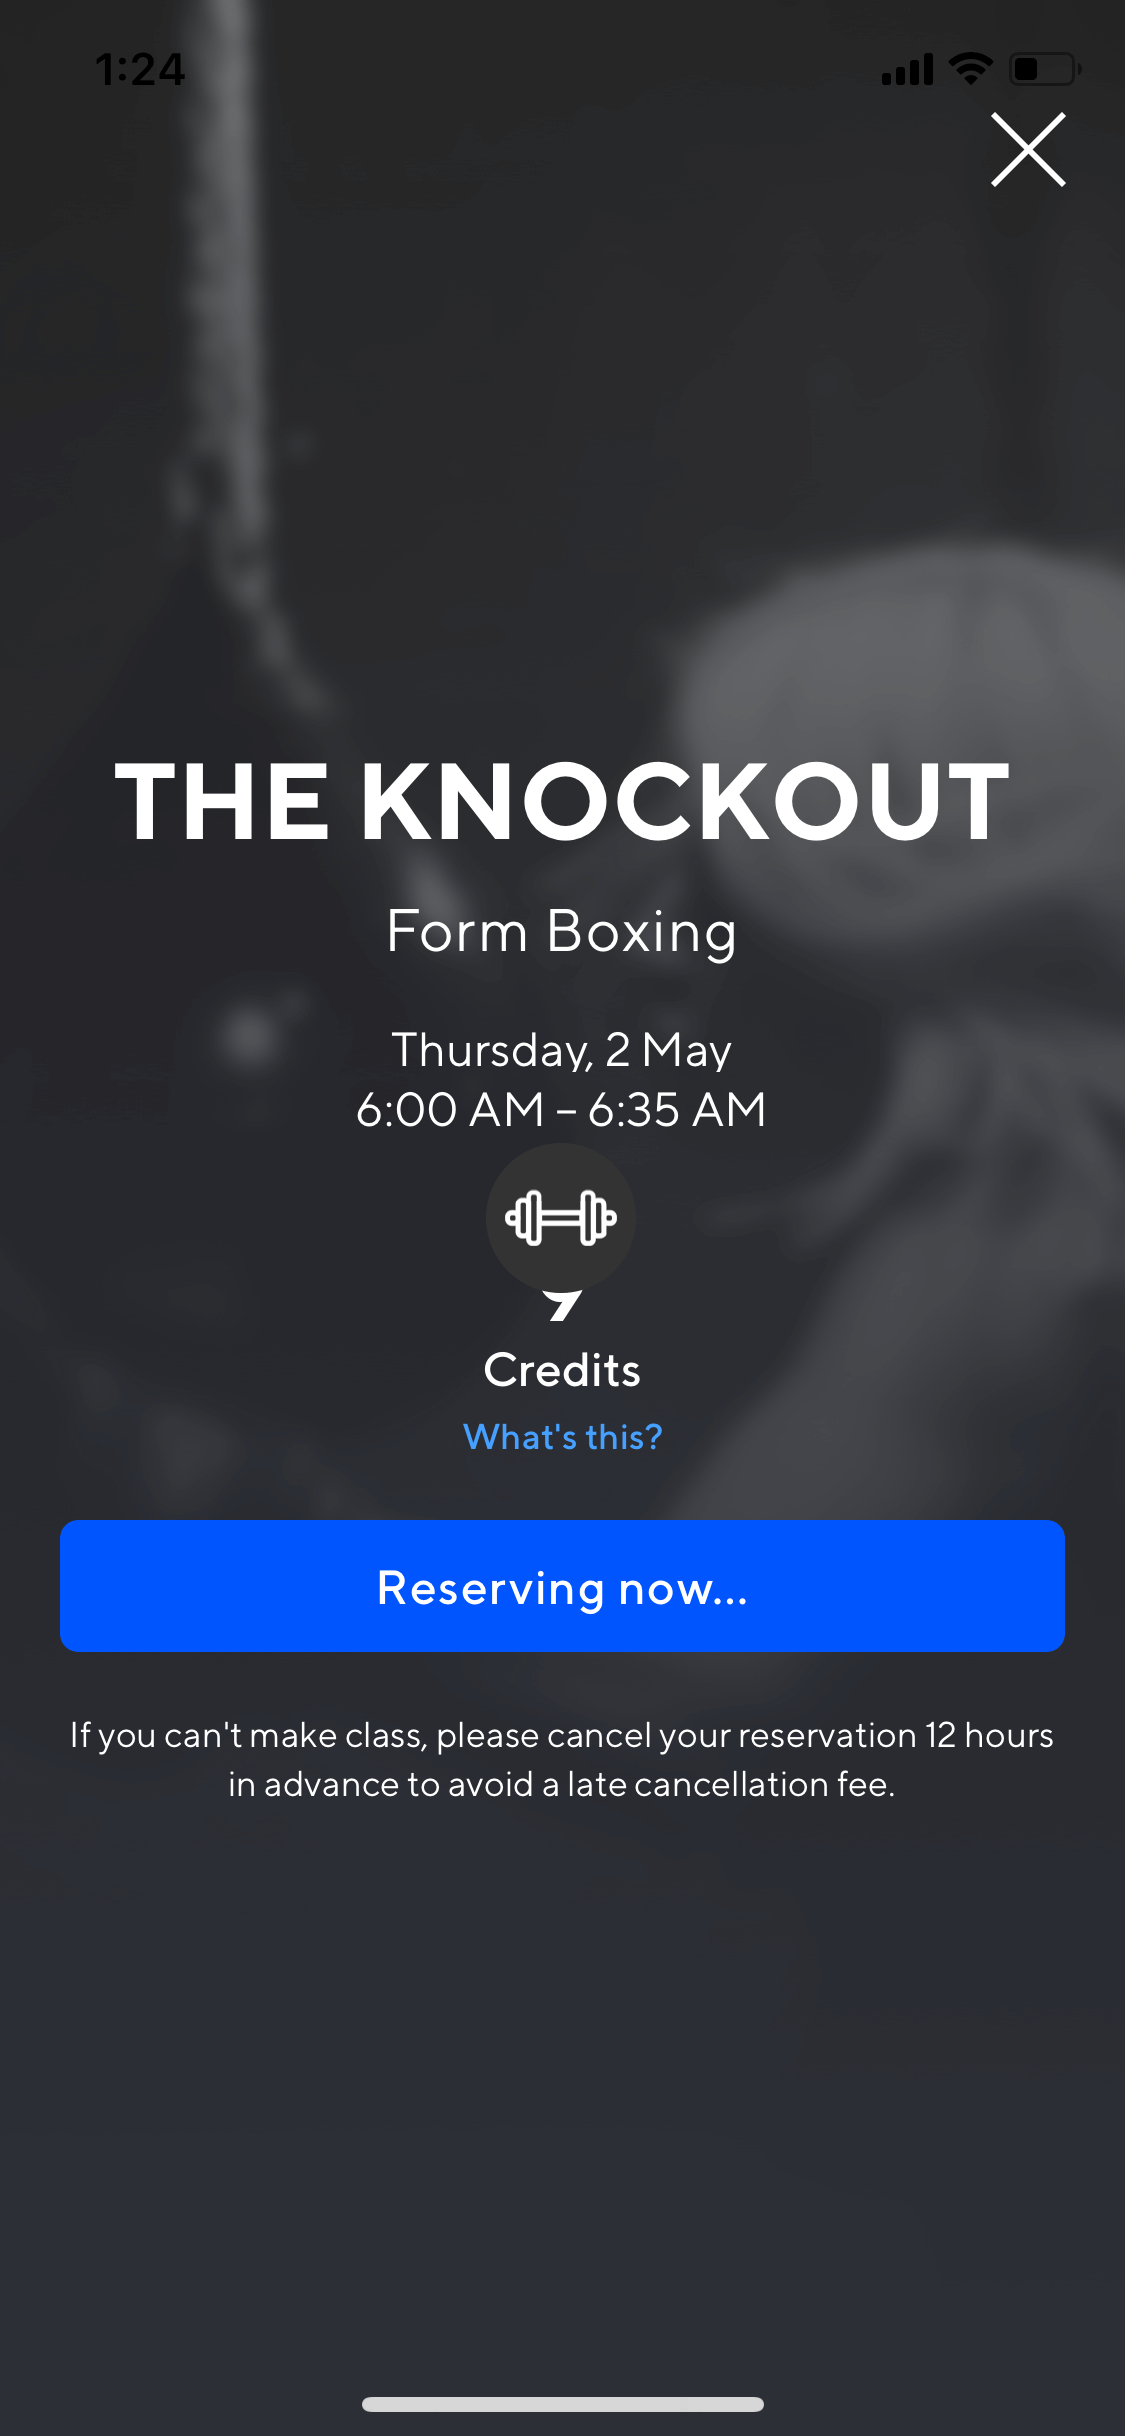Buttons: (33, 1498, 1081, 1678), (953, 84, 1092, 208)
